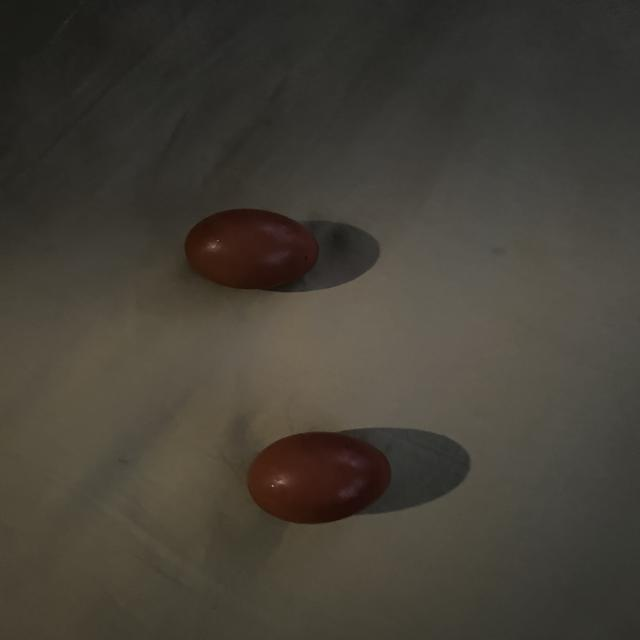Egg: (239, 424, 400, 527), (184, 205, 326, 292)
